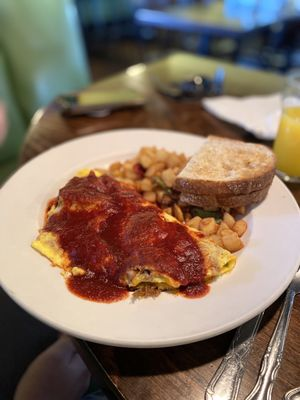pizza: (0, 0, 94, 121), (272, 73, 300, 182)
sandwich: (243, 289, 298, 400)
soup: (171, 136, 277, 221)
